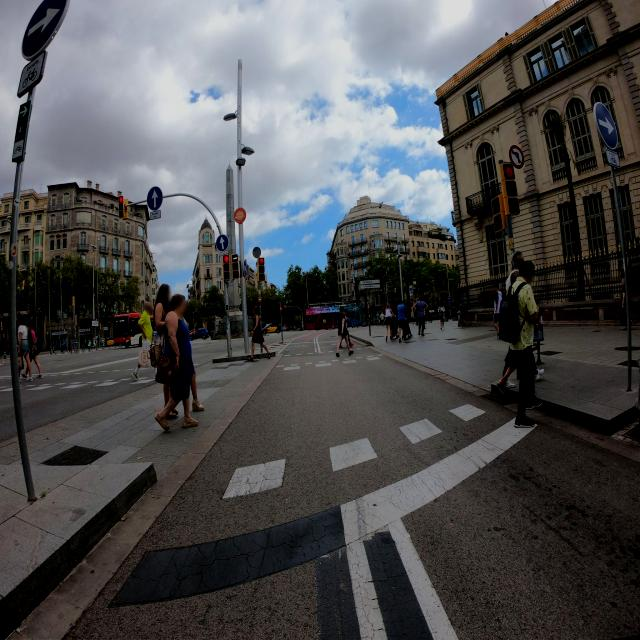car: (193, 327, 210, 340)
